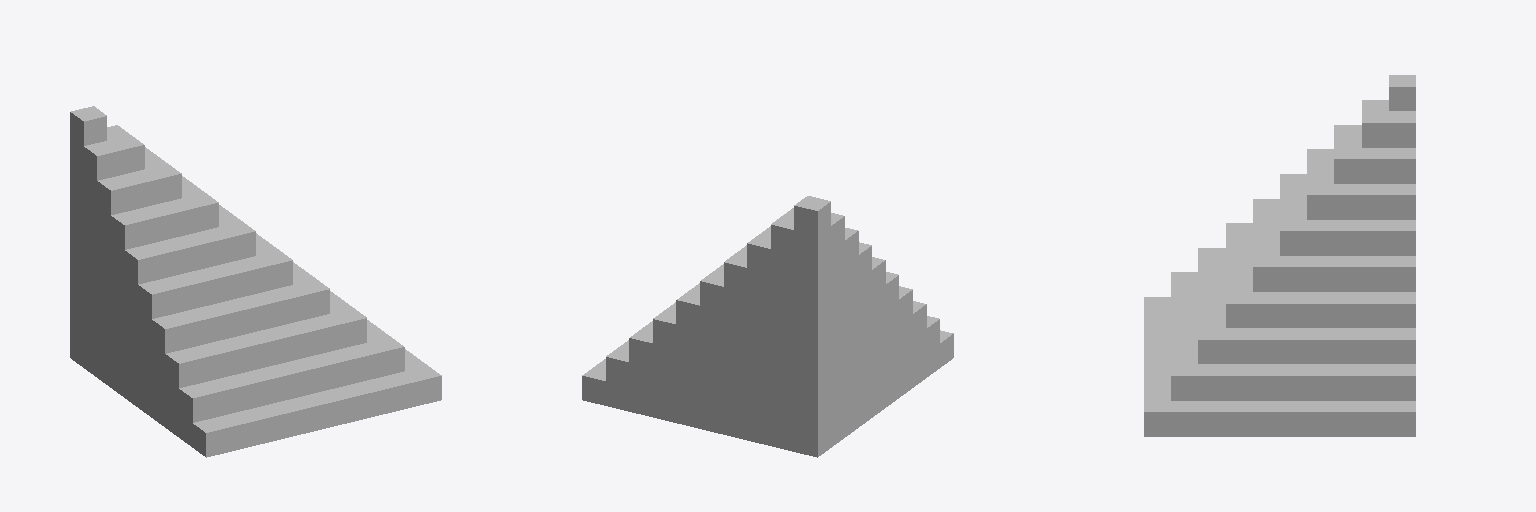
Rendered from Outter_Corner_Stair.obj.
3 renders of one model, left to right at view 1: azimuth 30°, elevation 25°; view 2: azimuth 150°, elevation 25°; view 3: azimuth 270°, elevation 25°, orthographic.
Parts seen in each view (by area): view 1: Outter_Corner_Stair_Cube.013; view 2: Outter_Corner_Stair_Cube.013; view 3: Outter_Corner_Stair_Cube.013.
Boxes of the visible parts, box(x1,y1,x2,y2) form: Outter_Corner_Stair_Cube.013: box(70, 106, 441, 457); Outter_Corner_Stair_Cube.013: box(582, 196, 953, 457); Outter_Corner_Stair_Cube.013: box(1144, 75, 1415, 436).
Bounding box in the file's own units: 1 × 1 × 1.